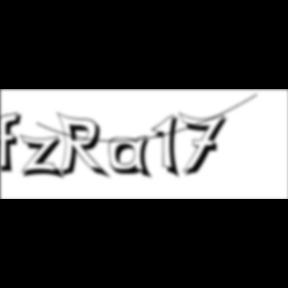1: (151, 114, 186, 182)
7: (179, 111, 234, 179)
R: (57, 112, 114, 182)
a: (109, 135, 157, 182)
f: (1, 111, 28, 175)
z: (20, 134, 68, 182)
